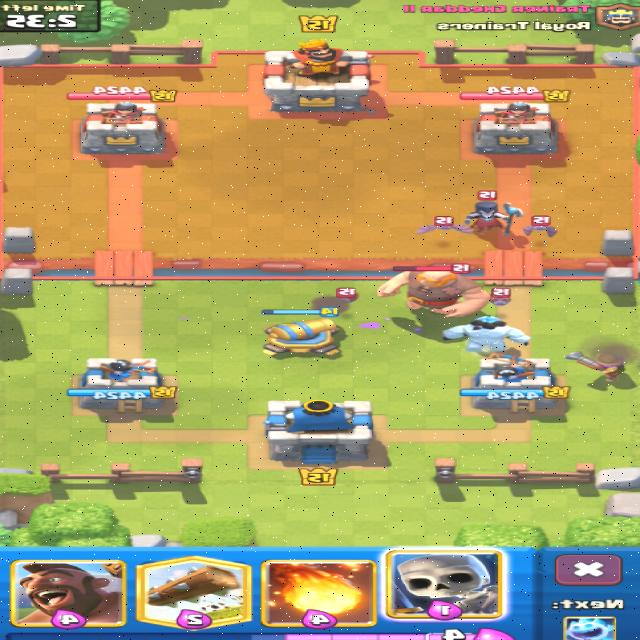Enemy-Bat: (418, 217, 471, 233), (524, 217, 558, 237), (491, 287, 511, 306), (337, 287, 359, 303)
Enemy-KingTower: (266, 39, 372, 111)
Enemy-NightWitch: (466, 202, 523, 234)
Enemy-PrincessTower: (81, 101, 165, 155), (474, 101, 556, 153)
Player-Cannon: (267, 319, 339, 354)
Player-IceGolem: (443, 316, 530, 352)
Player-KingTower: (264, 398, 373, 464)
Player-Musketeer: (566, 351, 624, 380)
Player-PrincessTower: (461, 352, 570, 409), (69, 359, 178, 413)
